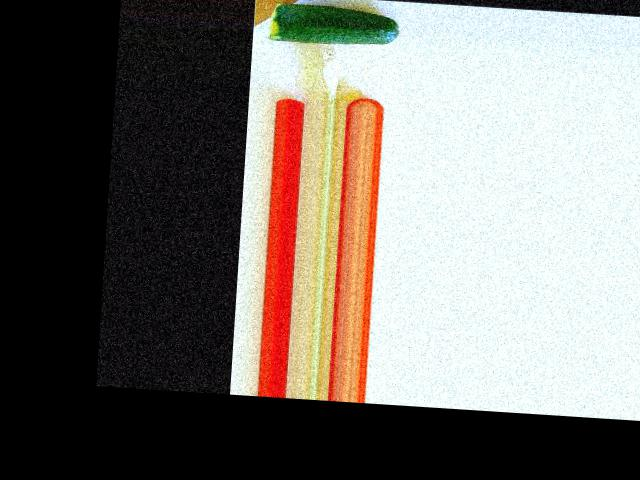cucumber: (268, 1, 401, 48)
